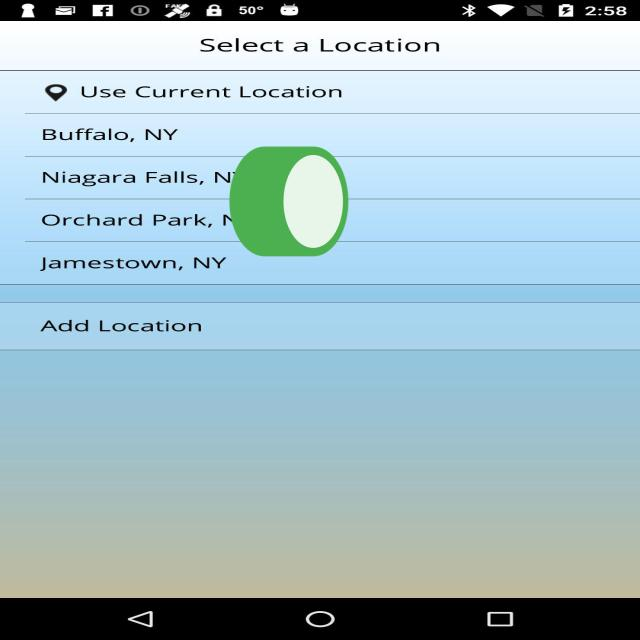social proof: (224, 104, 354, 307)
